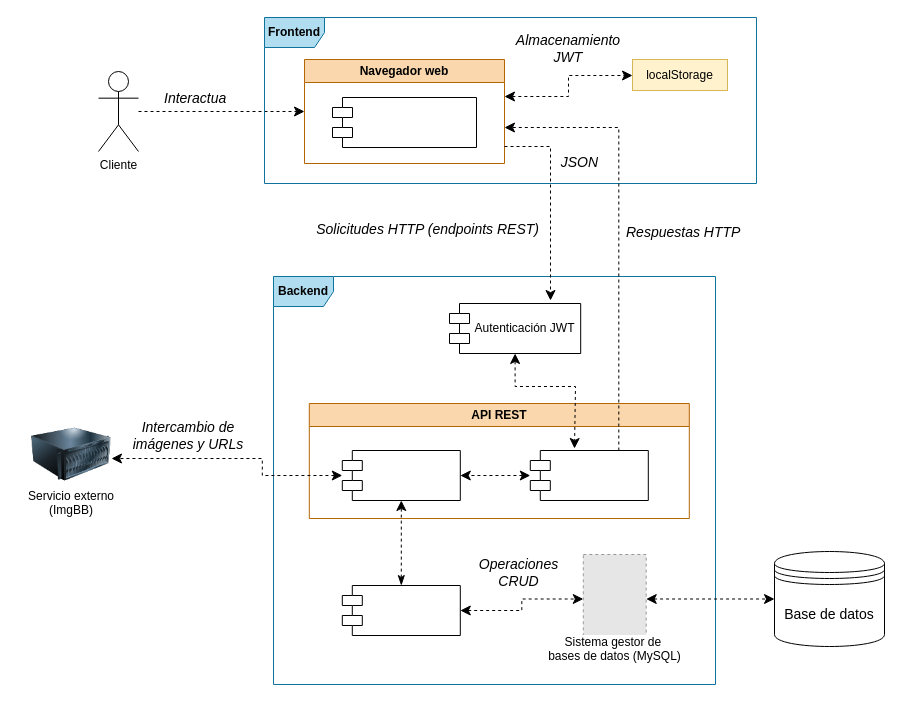
Some shapes in this 903 by 702 pixel diagram are drawn without their labels. Grey dashed boxes stand in for pictures. The shapes that lost their labels are listed below. From the top down, each one's centre as x and y in pixels, then its label:
point (404, 122): Componentes UI (React)
point (400, 475): Servicio
point (588, 475): Controlador
point (400, 610): Repositorio
